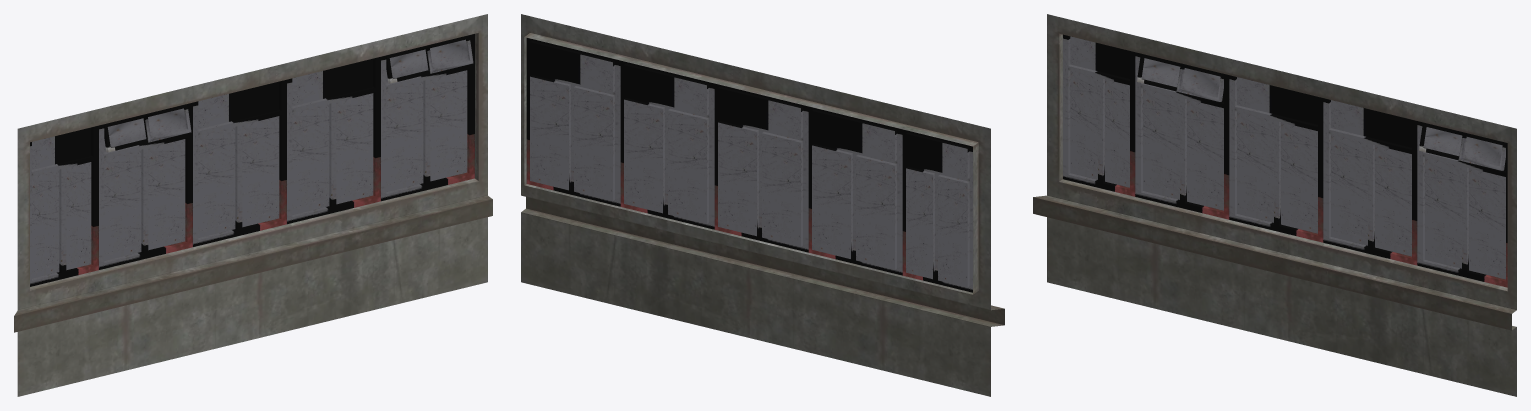
File: sm_floor_two_l.glb
The picture shows the model from 3 angles, left to right: view 1: azimuth 30°, elevation 25°; view 2: azimuth 150°, elevation 25°; view 3: azimuth 330°, elevation 25°; orthographic projection.
Visible parts, largest first — view 1: sm_floor_two_l; view 2: sm_floor_two_l; view 3: sm_floor_two_l.
Part boxes in pixels (x1=…): sm_floor_two_l: x1=14, y1=14, x2=492, y2=396; sm_floor_two_l: x1=521, y1=14, x2=1004, y2=396; sm_floor_two_l: x1=1033, y1=14, x2=1516, y2=396.
Bounding box in the file's own units: 5.09 × 2.73 × 0.2002.
2 materials, 2 textured.
